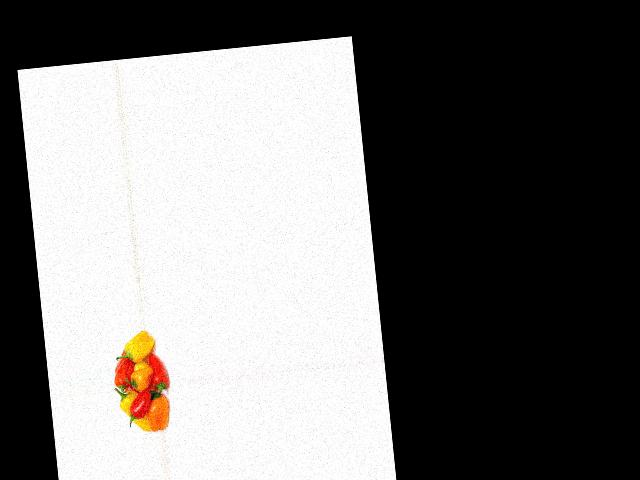bell_pepper: (116, 388, 150, 434)
